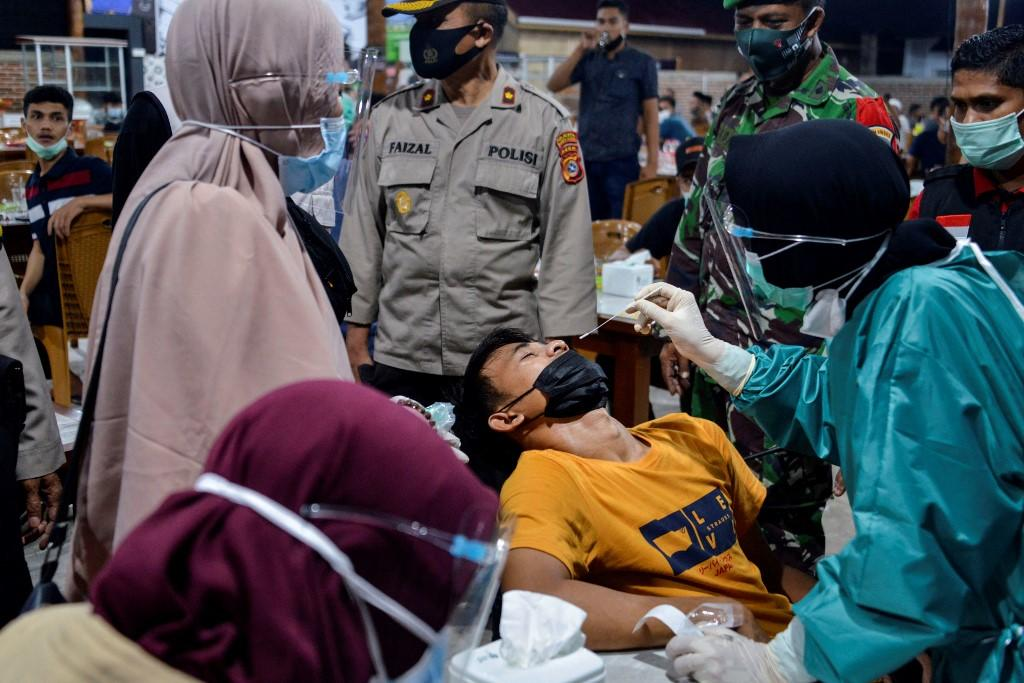Gloves: (625, 271, 755, 401)
mask_weared_incorrect: (506, 330, 620, 431), (26, 106, 67, 165), (588, 8, 630, 57)
with_mask: (404, 8, 490, 93), (736, 231, 815, 317), (946, 79, 1022, 167), (730, 10, 808, 83)
